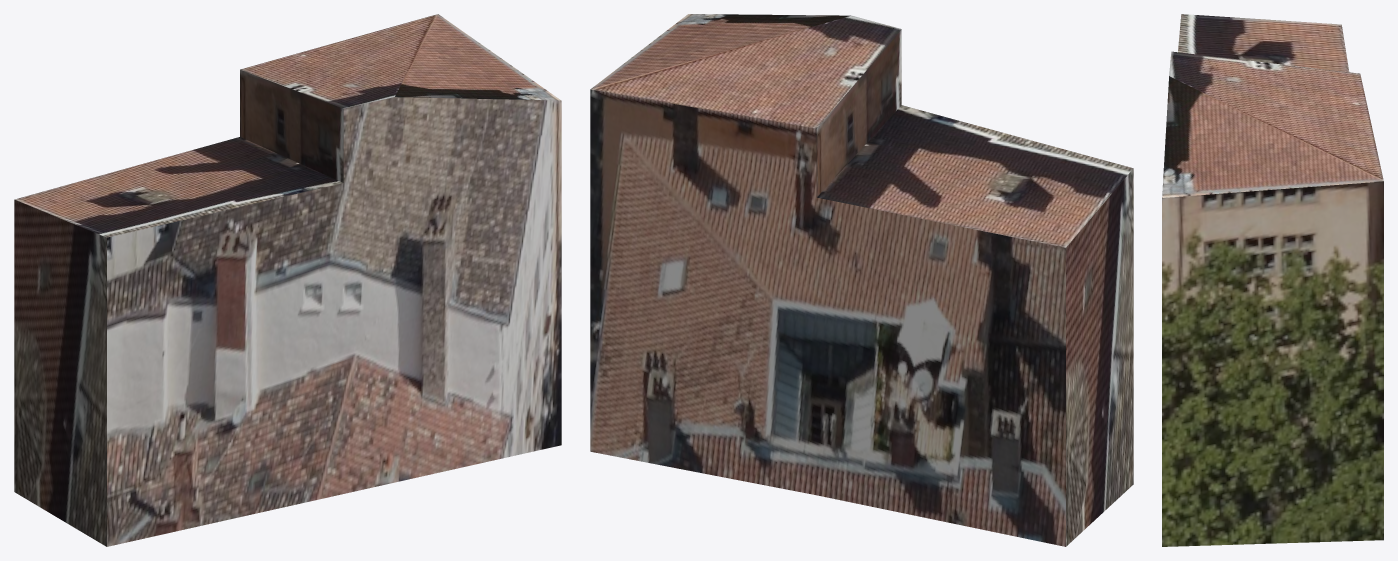
The picture shows the model from 3 angles, left to right: view 1: azimuth 30°, elevation 25°; view 2: azimuth 150°, elevation 25°; view 3: azimuth 270°, elevation 25°; orthographic projection. The views are drawn at different scales.
Parts seen in each view (by area): view 1: Z_UP; view 2: Z_UP; view 3: Z_UP.
Boxes of the visible parts, left/top/right/bottom form: Z_UP: left=14, top=14, right=561, bottom=546; Z_UP: left=590, top=14, right=1133, bottom=546; Z_UP: left=1162, top=14, right=1383, bottom=546.
Size of the model in its own units: 24.43 by 19.64 by 10.12.
2 materials, 1 textured.
